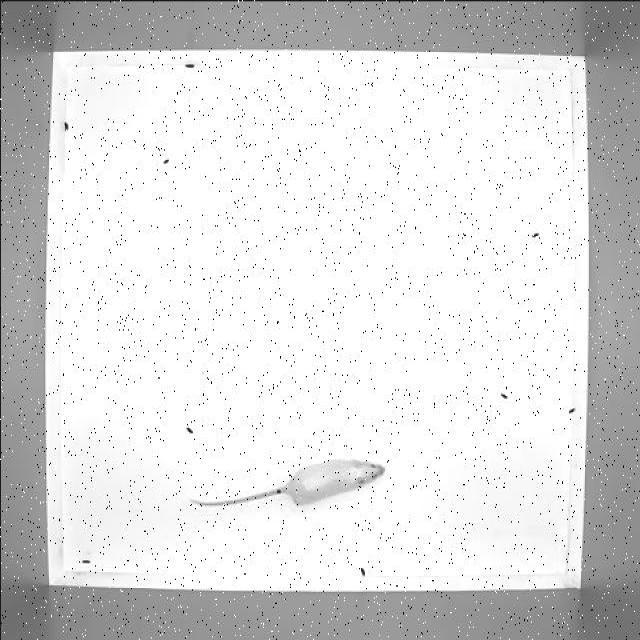rat: (190, 454, 386, 514)
